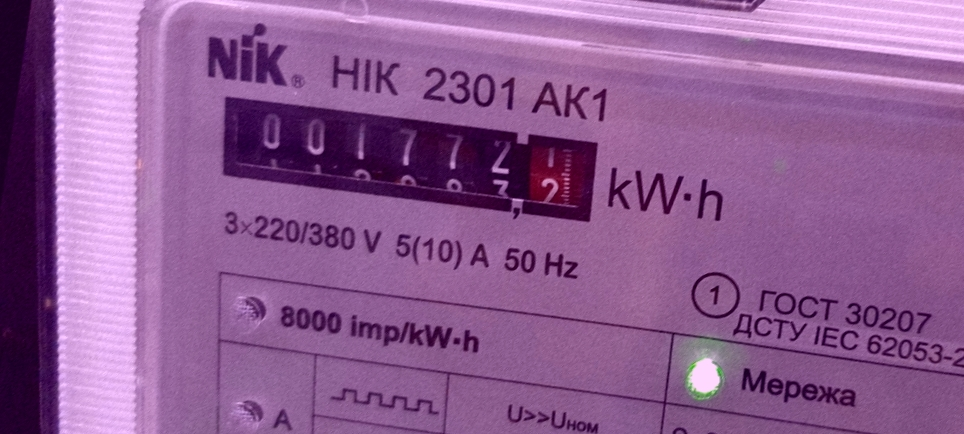0: (256, 108, 289, 152), (303, 115, 331, 157)
1: (351, 120, 373, 161), (544, 144, 560, 171)
2: (488, 138, 516, 177), (536, 174, 563, 205)
3: (490, 176, 514, 200)
7: (394, 125, 422, 169), (440, 131, 467, 172)
screen: (202, 76, 621, 243)
